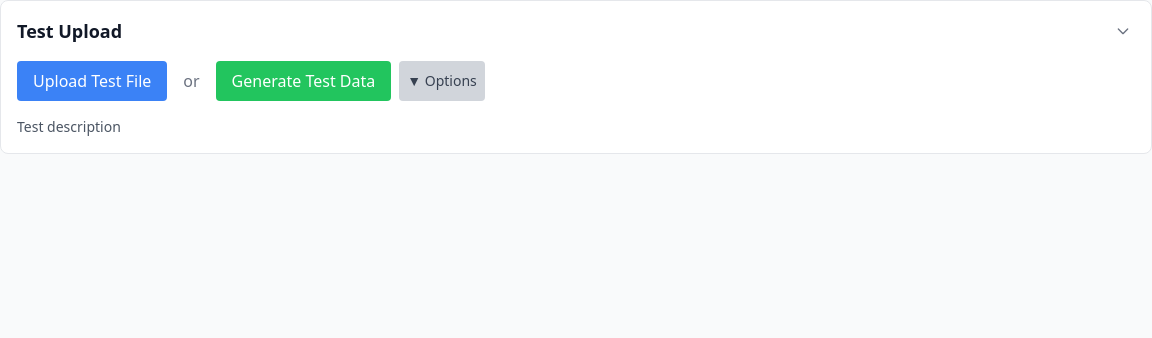
FileUploadBase › renders custom config fields when preset is custom
# Show advanced options
Click the button "▼ Options".
click(442, 81)  # box [399,61,485,101]
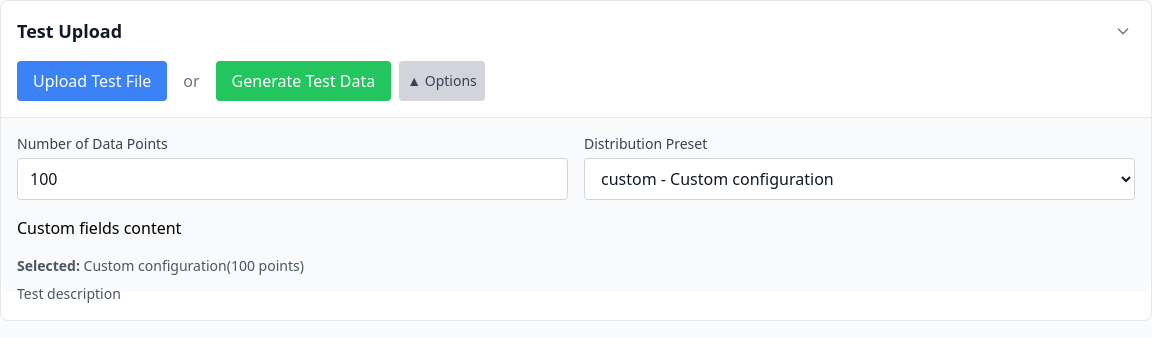
Now the text "Custom fields content" is shown, box [17,217,181,239]
